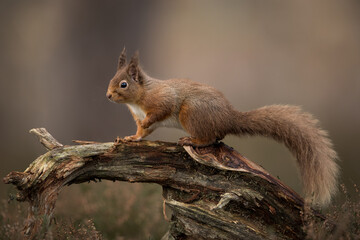squirrel: (104, 44, 344, 145)
